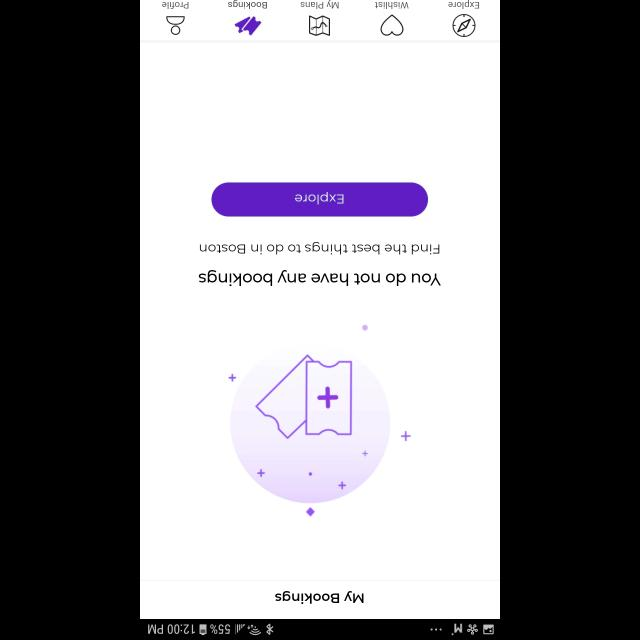icon: (234, 16, 262, 36), (452, 14, 476, 36), (381, 14, 404, 36), (308, 16, 329, 36), (167, 16, 186, 34)
image: (228, 324, 410, 516)
text: (198, 242, 440, 286), (274, 590, 364, 604), (228, 0, 266, 10), (300, 0, 338, 9), (448, 0, 479, 10), (374, 2, 408, 10), (162, 2, 188, 8)
textbutton: (212, 182, 428, 216)
uppertaskbar: (140, 618, 500, 640)
